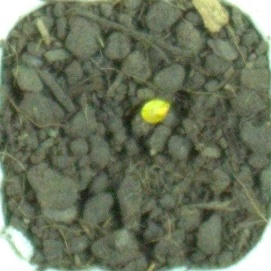pepper seed: (51, 33, 224, 160)
